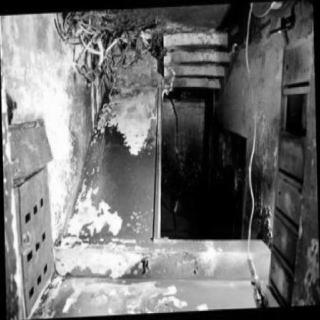Fire: (4, 33, 146, 313), (198, 238, 250, 268), (152, 288, 188, 310), (194, 303, 212, 313)
